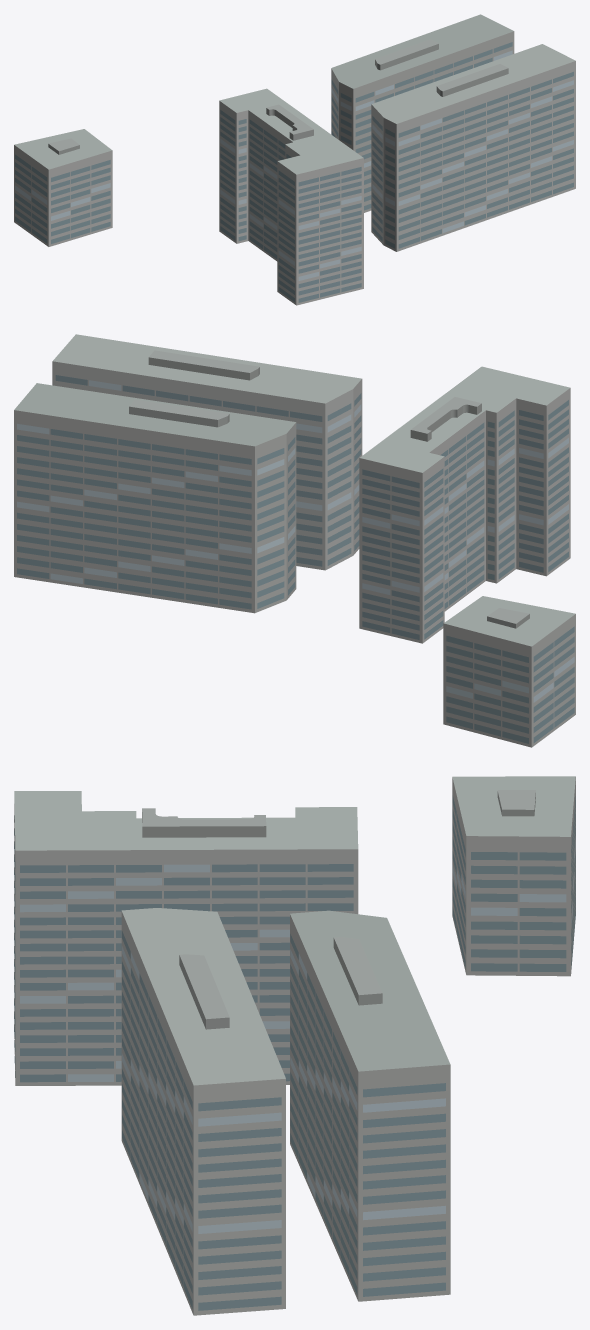
Rendered from apt-a13780201.glb.
The picture shows the model from 3 angles, top to bottom: view 1: azimuth 30°, elevation 25°; view 2: azimuth 150°, elevation 25°; view 3: azimuth 270°, elevation 25°; orthographic projection. The views are drawn at different scales.
Parts seen in each view (by area): view 1: apt-a13780201; view 2: apt-a13780201; view 3: apt-a13780201.
Part boxes in pixels (x1,y1,x2,y2): apt-a13780201: (14,14,575,305); apt-a13780201: (14,334,575,747); apt-a13780201: (14,776,575,1315).
Size of the model in its own units: 171 by 49.01 by 101.
